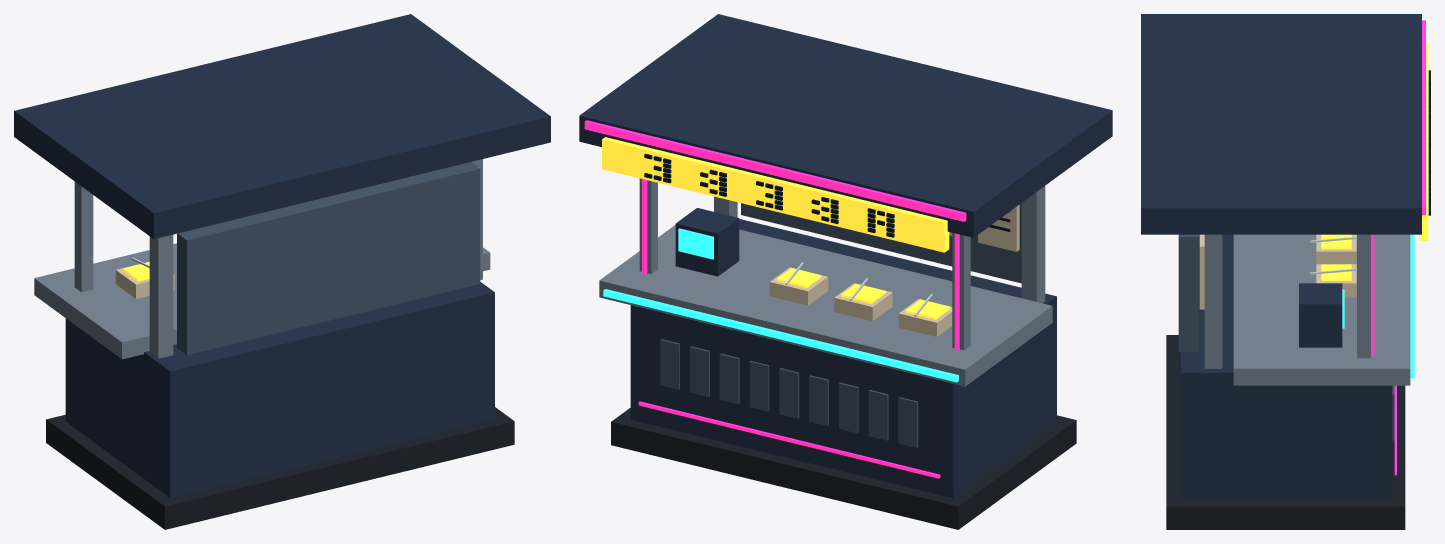
File: kiosk.glb
3 views of the same model, side by side, from view 1: azimuth 30°, elevation 25°; view 2: azimuth 150°, elevation 25°; view 3: azimuth 270°, elevation 25° (orthographic).
Visible parts, largest first — view 1: NIGHT MARKET NOODLES; view 2: NIGHT MARKET NOODLES; view 3: NIGHT MARKET NOODLES.
Boxes of the visible parts, x1,y1,x2,y2 form: NIGHT MARKET NOODLES: (14,14,550,529); NIGHT MARKET NOODLES: (579,14,1112,529); NIGHT MARKET NOODLES: (1141,14,1430,529).
Bounding box in the file's own units: 3.18 × 2.54 × 2.
